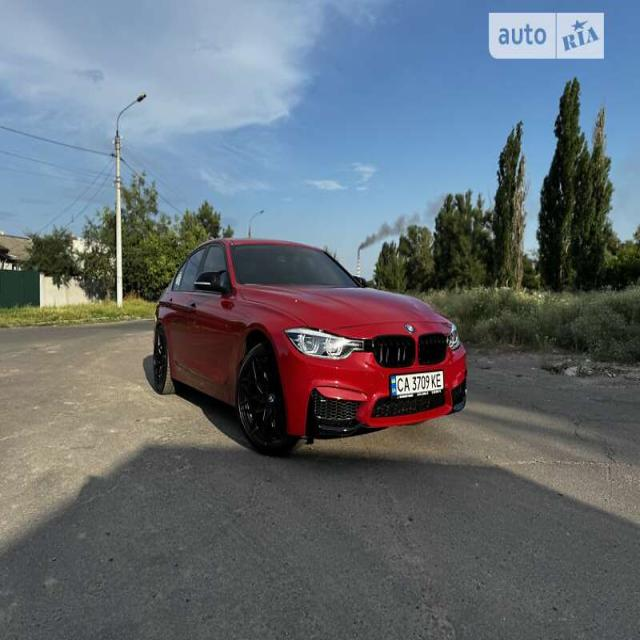plate: (388, 365, 446, 400)
